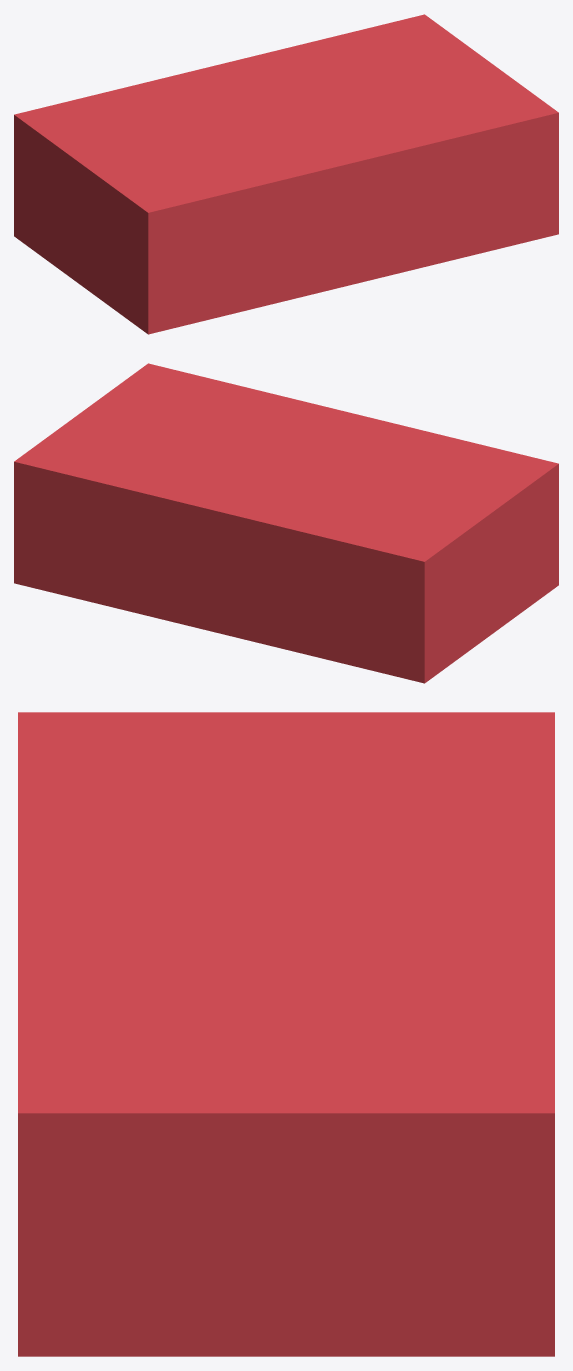
Rendered from noel_cintura.glb.
3 renders of one model, top to bottom at view 1: azimuth 30°, elevation 25°; view 2: azimuth 150°, elevation 25°; view 3: azimuth 270°, elevation 25°, orthographic. The views are drawn at different scales.
Parts seen in each view (by area): view 1: noel_cintura; view 2: noel_cintura; view 3: noel_cintura.
Part boxes in pixels (x1=…): noel_cintura: x1=14, y1=14, x2=558, y2=334; noel_cintura: x1=14, y1=363, x2=558, y2=683; noel_cintura: x1=18, y1=712, x2=554, y2=1356.
Size of the model in its own units: 0.53 by 0.15 by 0.3.
